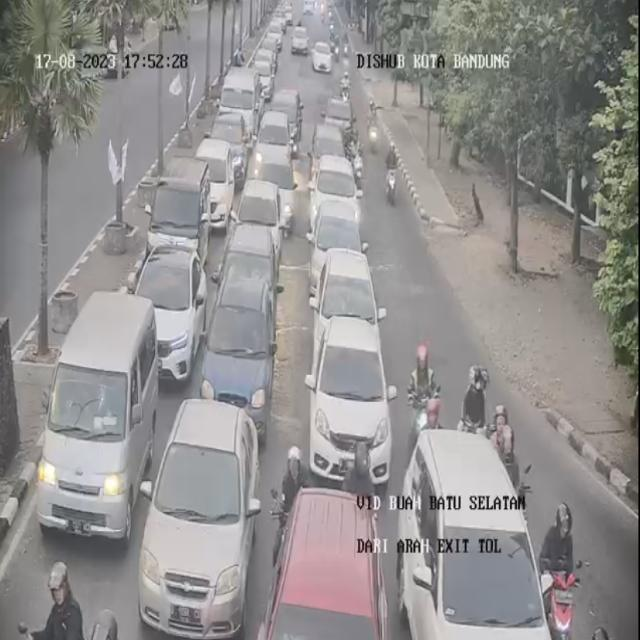cars: (399, 425, 561, 640), (41, 292, 161, 548), (143, 397, 269, 640), (261, 487, 387, 639), (309, 313, 392, 491), (203, 274, 283, 432), (135, 248, 206, 379), (152, 156, 212, 272), (318, 243, 383, 346), (314, 157, 364, 280), (217, 230, 283, 315), (249, 142, 298, 231), (192, 142, 235, 228), (234, 176, 285, 239), (213, 109, 250, 180), (224, 69, 259, 129), (308, 123, 344, 179), (259, 111, 289, 170), (268, 89, 298, 140), (324, 95, 354, 146), (252, 54, 277, 100), (311, 36, 332, 76), (290, 24, 309, 54), (267, 20, 283, 45)
motorcycle: (538, 498, 580, 638), (40, 560, 90, 639), (404, 337, 437, 433), (491, 398, 519, 479), (458, 362, 487, 438), (384, 141, 406, 206), (353, 138, 367, 192), (366, 103, 379, 151), (342, 68, 354, 100)
